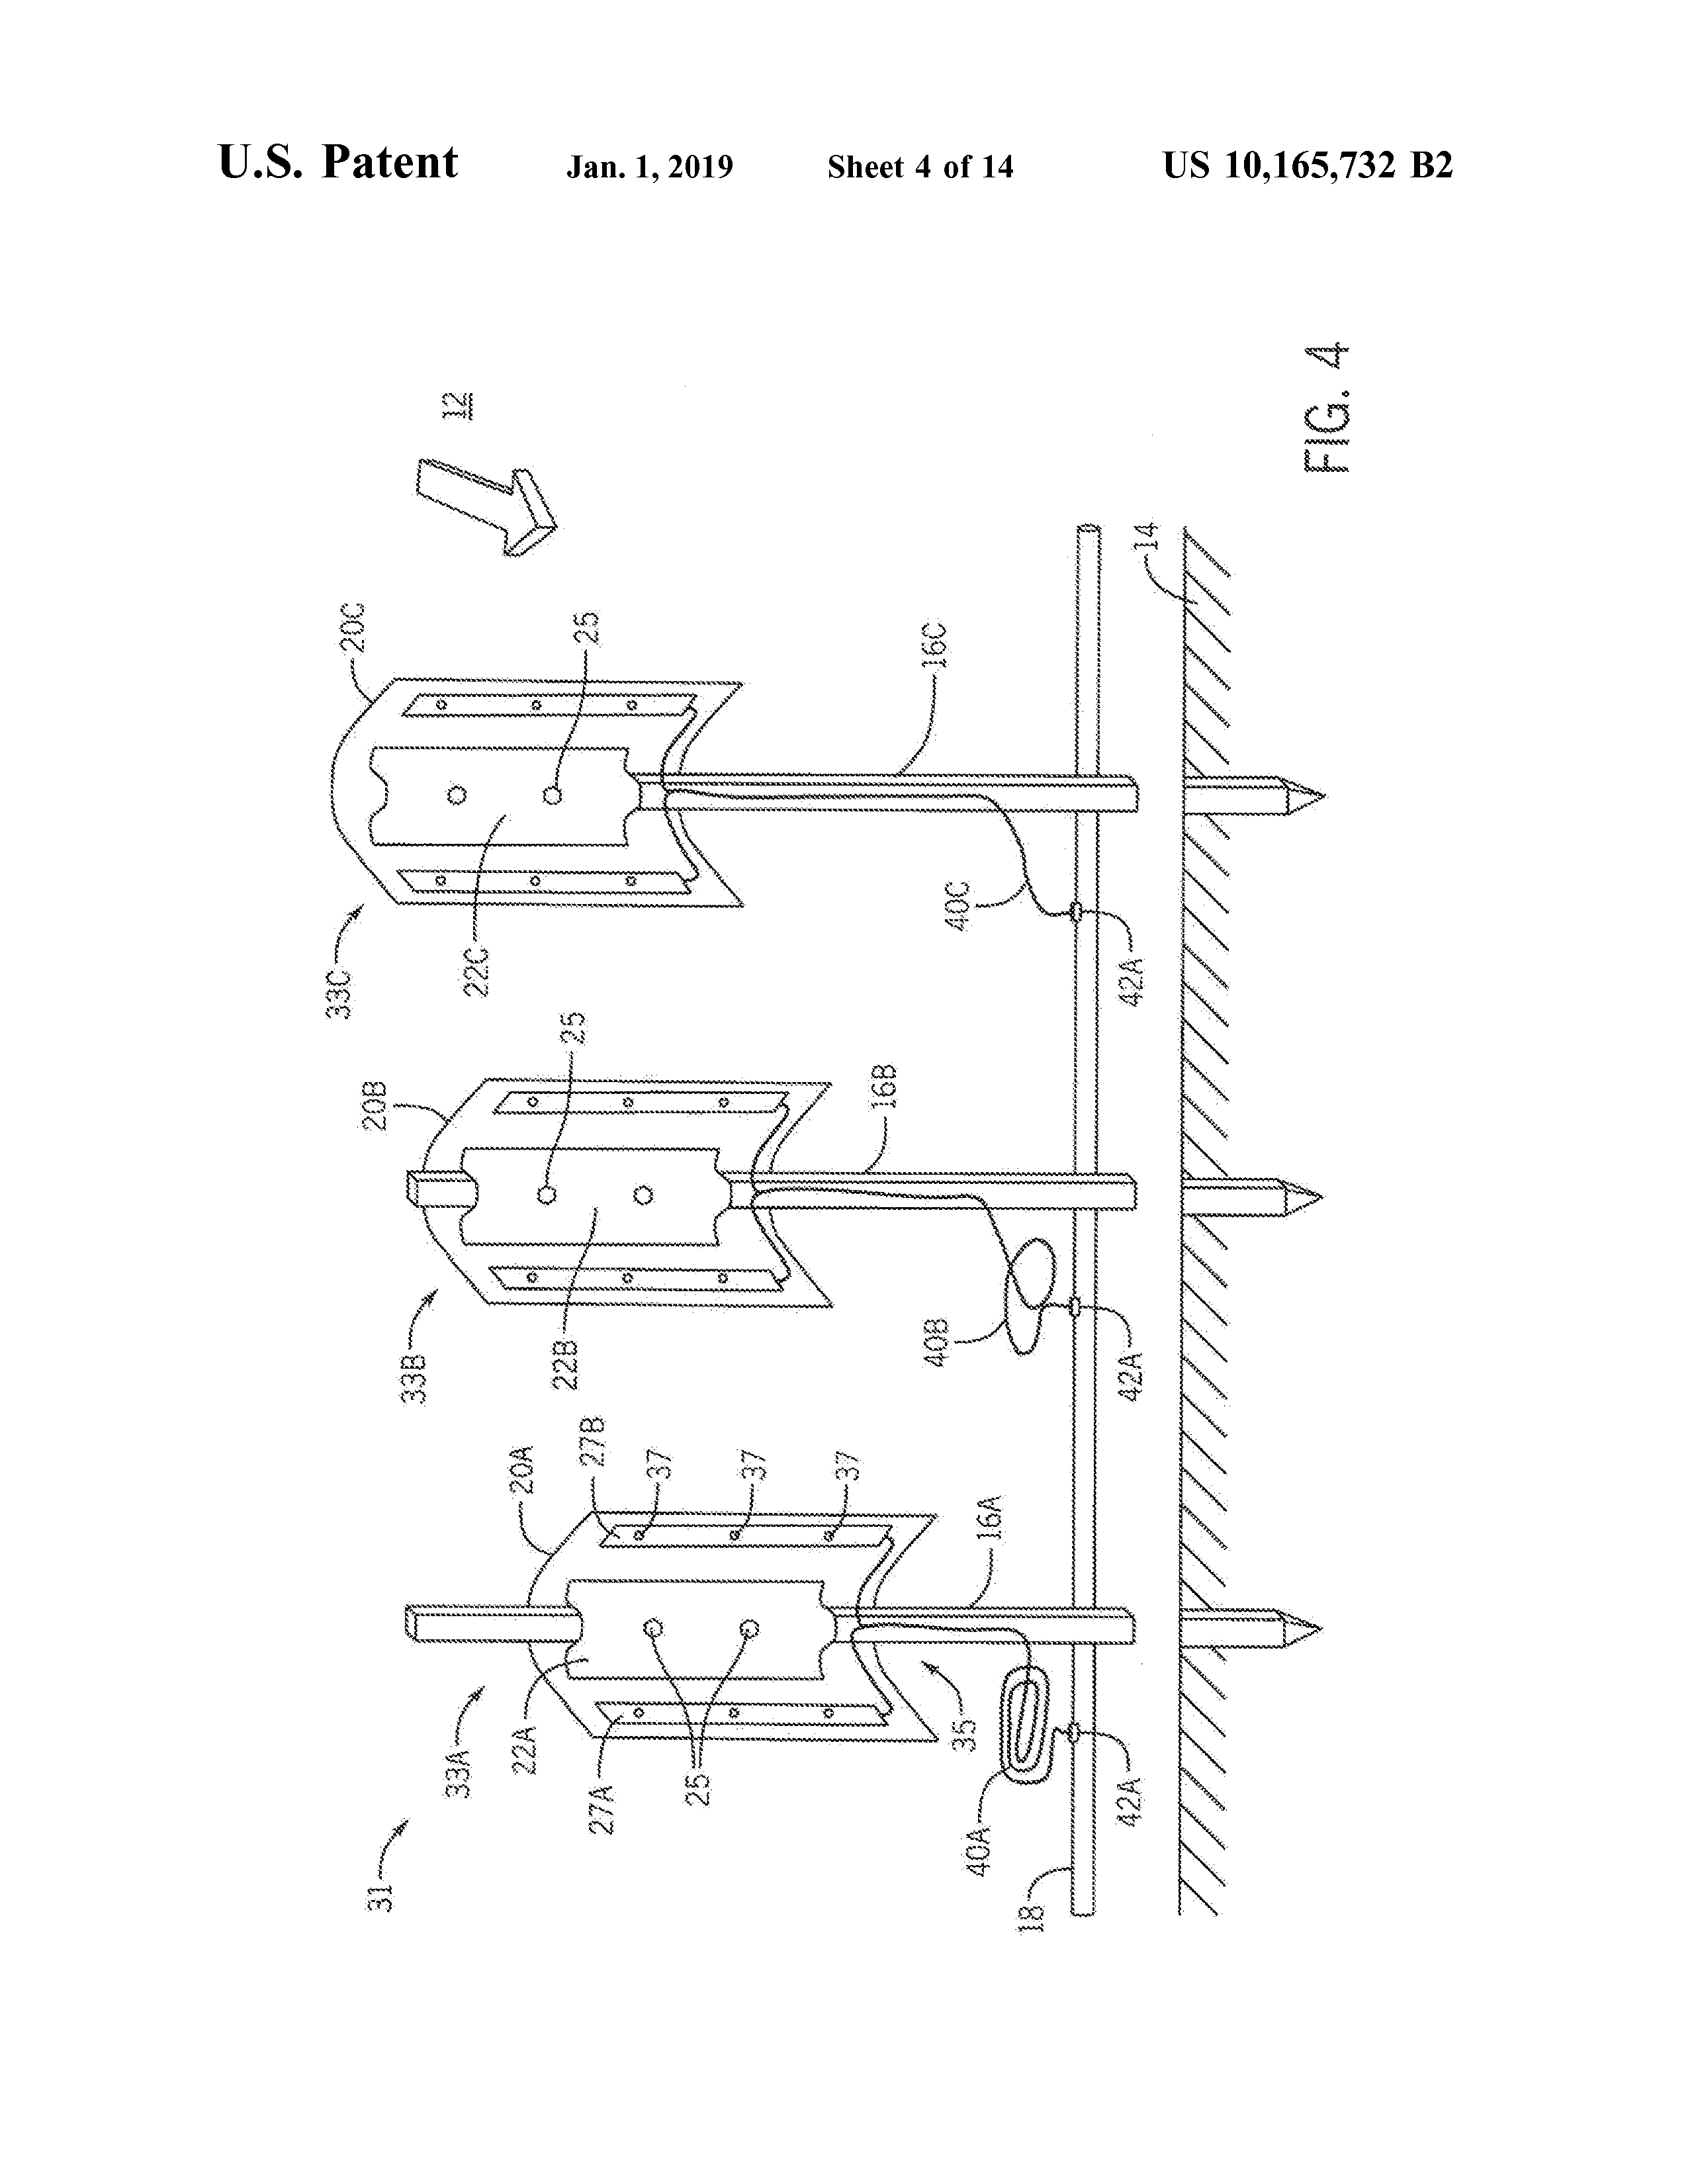patent image: (247, 282, 1406, 1977)
